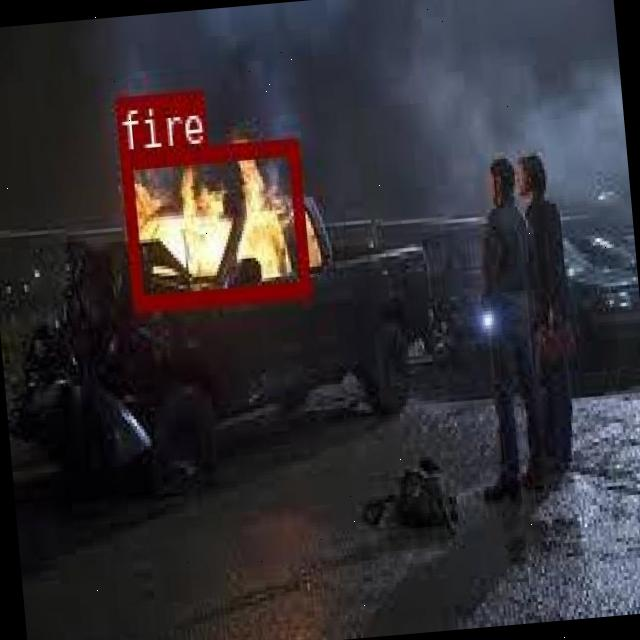fire: (118, 136, 310, 308)
